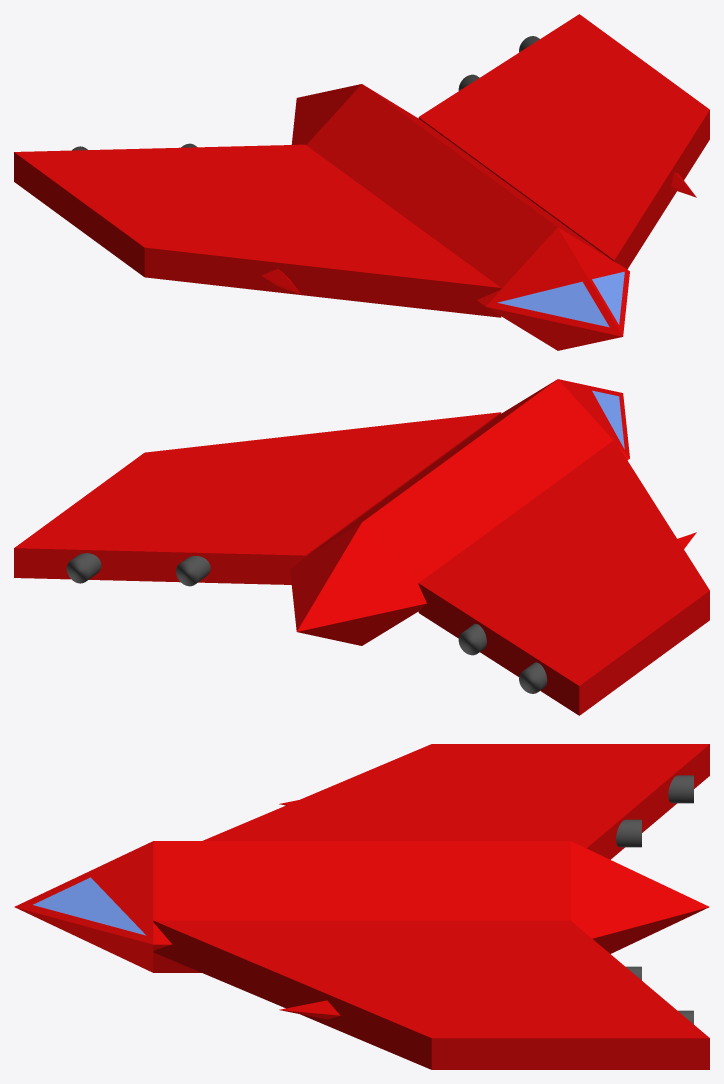
File: Enemy_Ship_001.fbx
3 renders of one model, top to bottom at view 1: azimuth 30°, elevation 25°; view 2: azimuth 150°, elevation 25°; view 3: azimuth 270°, elevation 25°, orthographic. The views are drawn at different scales.
Visible parts, largest first — view 1: wings, body, guns; view 2: wings, body, thrust_001, thrust; view 3: wings, body, thrust, thrust_001, guns.
Part boxes in pixels (<box>): wings: <box>14,14,709,317</box>; body: <box>291,84,629,350</box>; guns: <box>261,172,696,293</box>; wings: <box>14,412,709,715</box>; body: <box>290,379,629,645</box>; thrust_001: <box>66,553,547,693</box>; thrust: <box>176,556,486,655</box>; wings: <box>153,744,709,1069</box>; body: <box>14,841,709,972</box>; thrust: <box>616,819,641,980</box>; thrust_001: <box>668,775,693,1024</box>; guns: <box>279,800,340,1019</box>.
Bounding box in the file's own units: 200 × 41.81 × 200.
